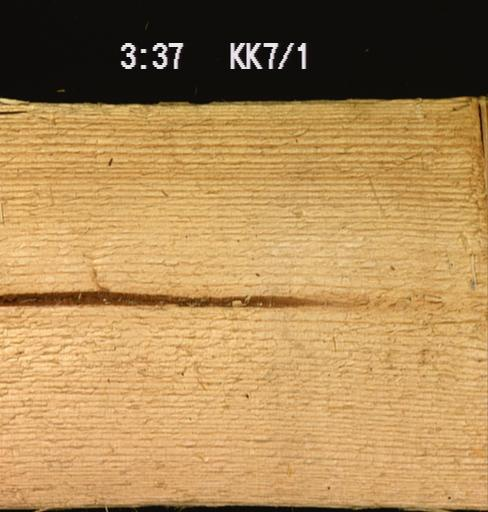split: (0, 107, 30, 117)
